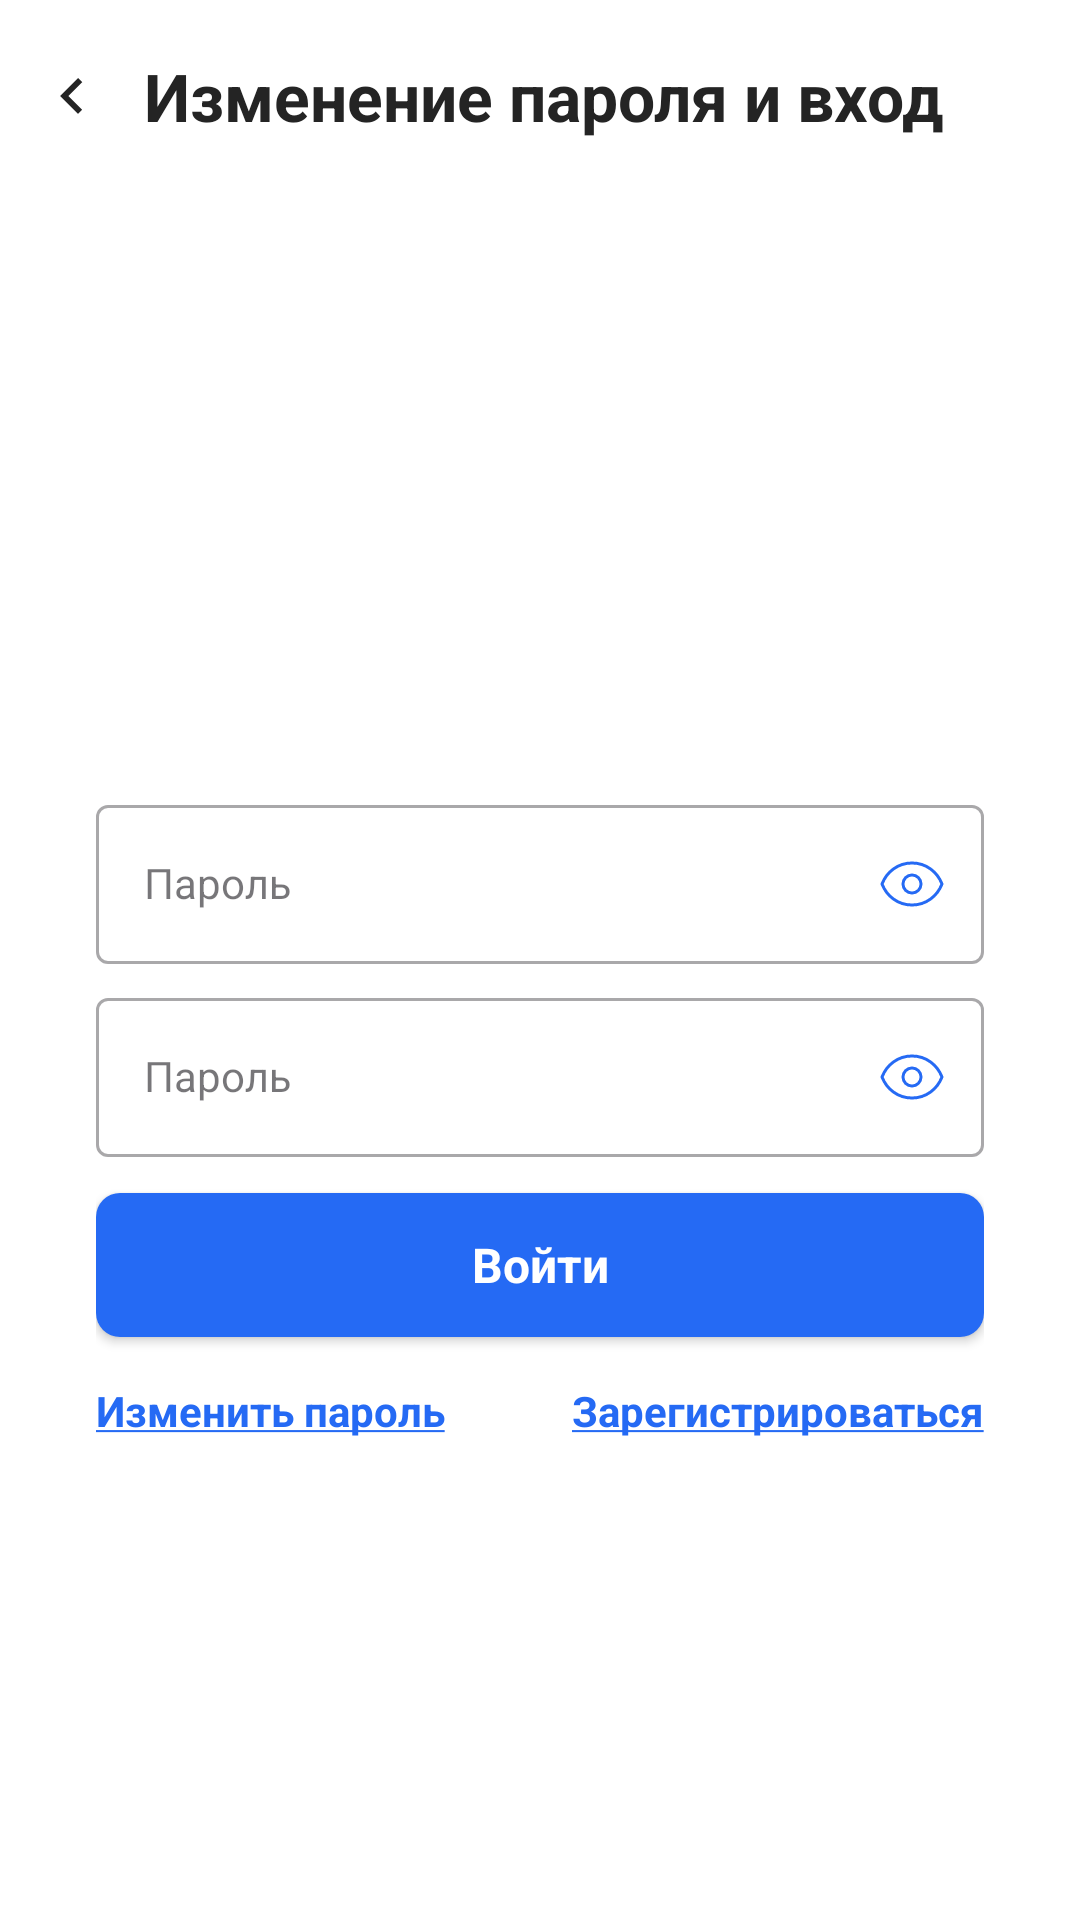

Screen size 1080px×1920px. Icon name, then its center in pixels as (x,y):
GO BACK: (71,96)
